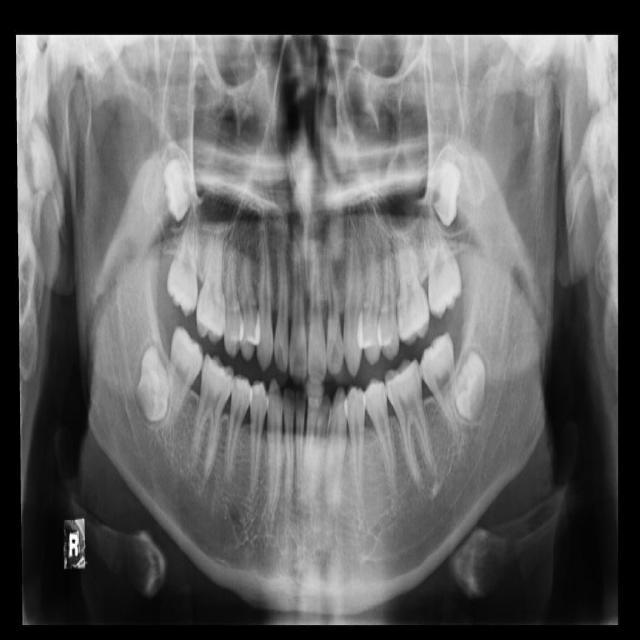3M ESPE Implant: (161, 156, 197, 224)
73: (591, 564, 597, 564)
BioHorizons Implant: (418, 199, 466, 321)
BioLife Implant: (427, 158, 463, 230)
Biomet 3i Implant: (452, 347, 487, 421)
Blue Sky Bio Implant: (416, 329, 467, 448)
Caries: (166, 198, 198, 316)
Implant: (158, 324, 208, 435)
Keystone Dental Implant: (138, 344, 169, 422)
